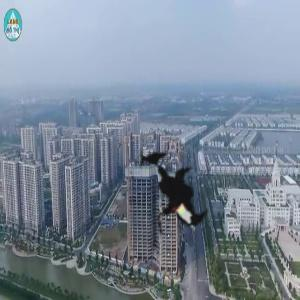drone: (95, 122, 239, 266)
